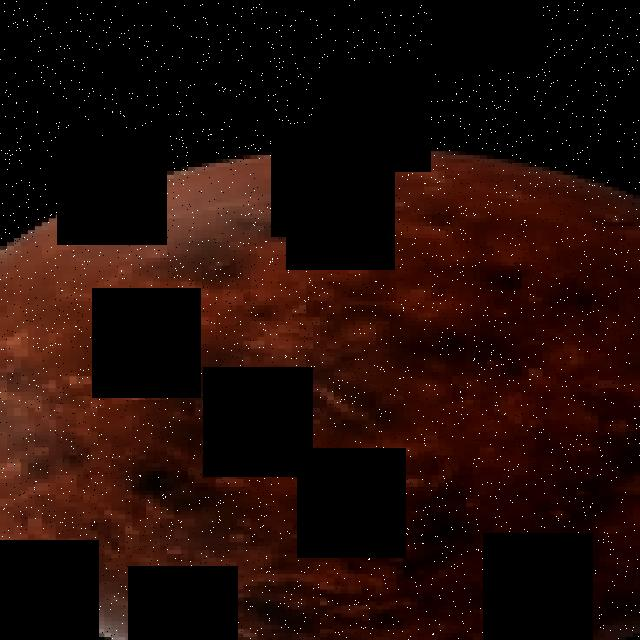Venus: (0, 138, 640, 640)
